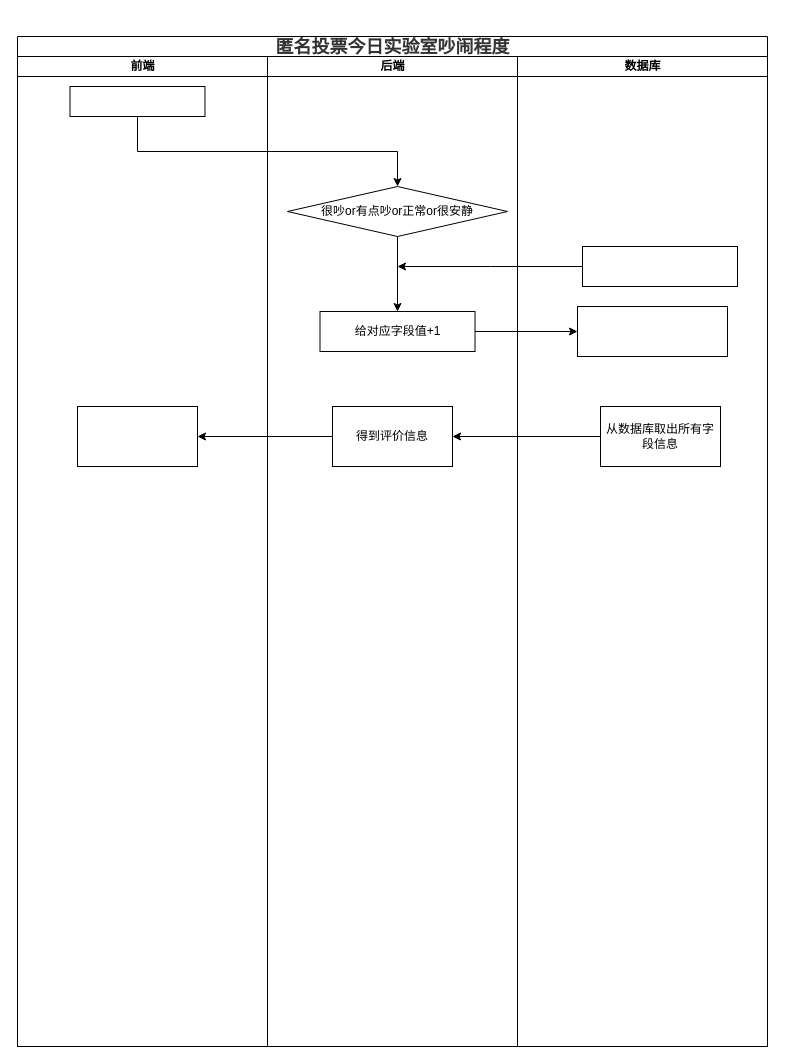
Image size: 785x1064. Some labels were removed from this diagram. The shapes that lost their labels are listed below. From the top down, each one's centre as x and y in pixels, then its label:
At point 137,101: "接收用户数据".
At point 660,266: "取出当前字段值".
At point 652,331: "存入数据库".
At point 137,436: "对评价信息进行展示".
